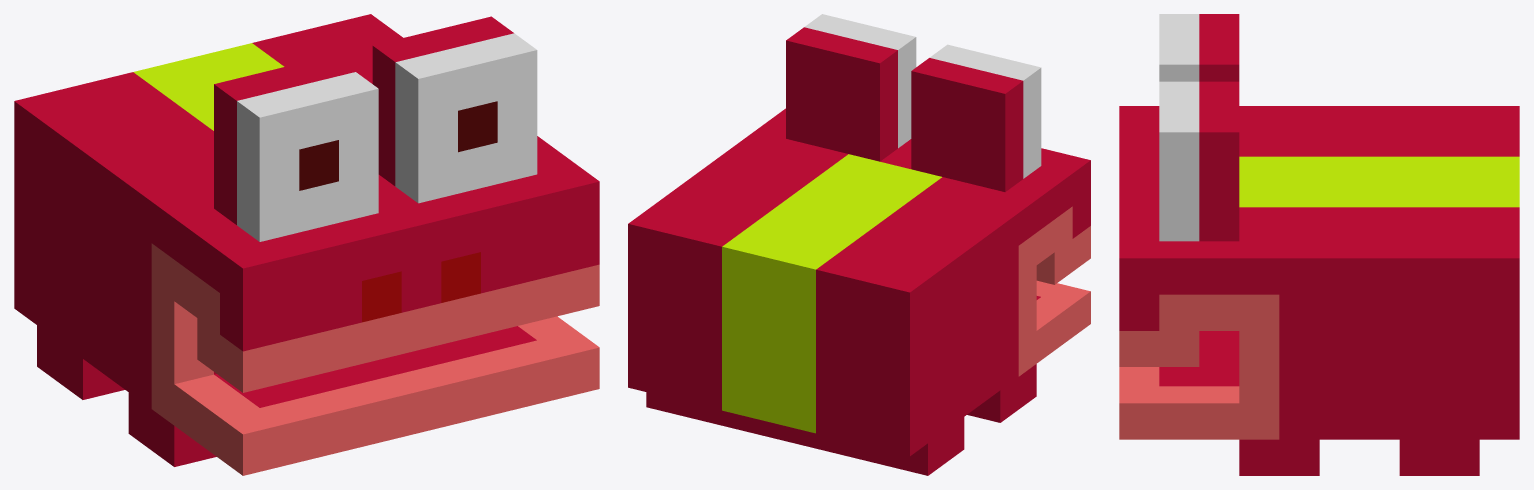
File: frog.obj
3 renders of one model, left to right at view 1: azimuth 30°, elevation 25°; view 2: azimuth 150°, elevation 25°; view 3: azimuth 270°, elevation 25°, orthographic. The views are drawn at different scales.
Bounding box in the file's own units: 9 × 9 × 10.
1 material, 1 textured.
